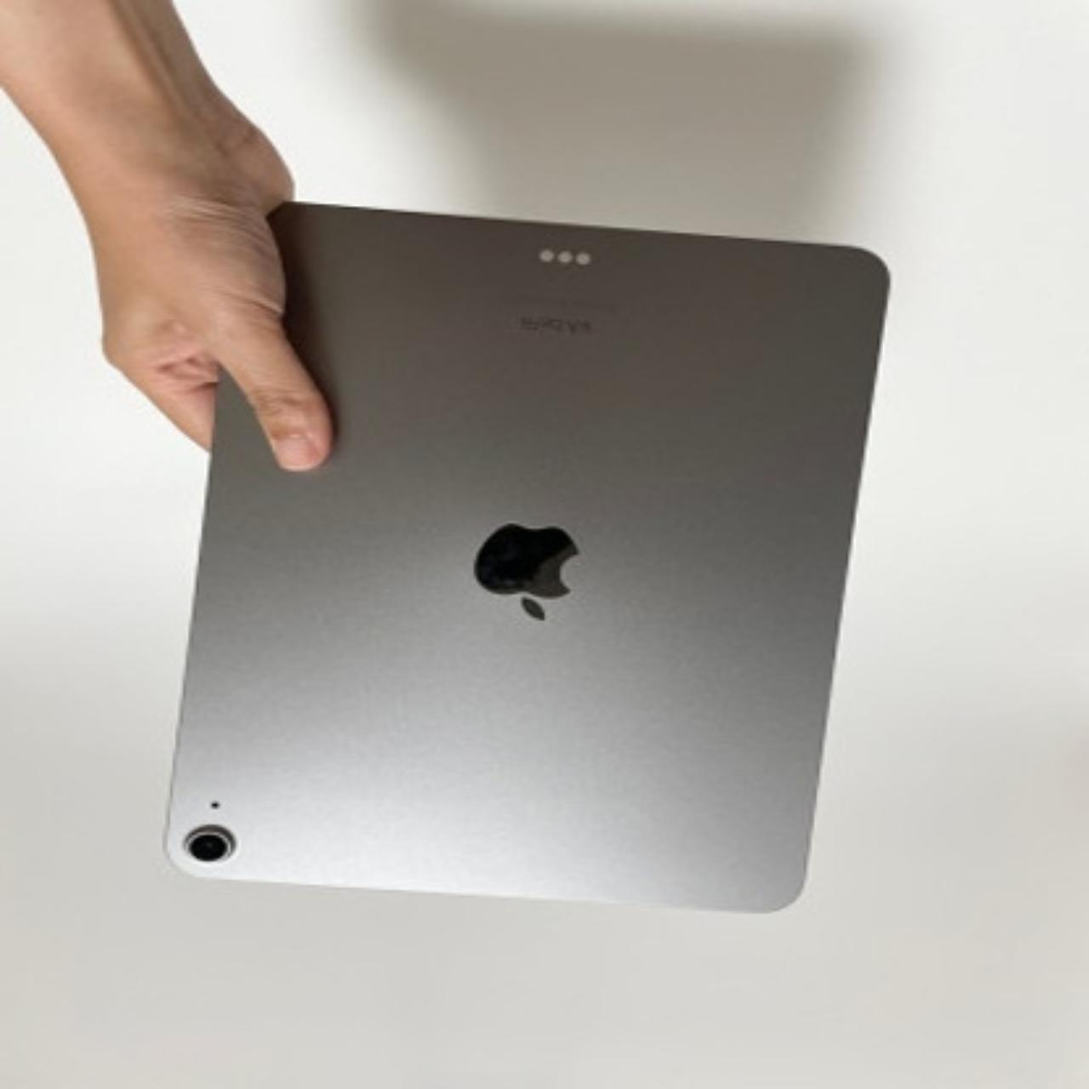Tablet_PC: (152, 188, 913, 926)
